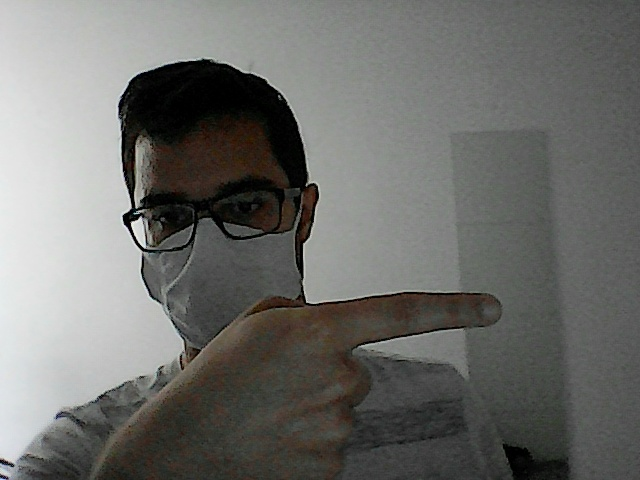left: (149, 282, 517, 480)
